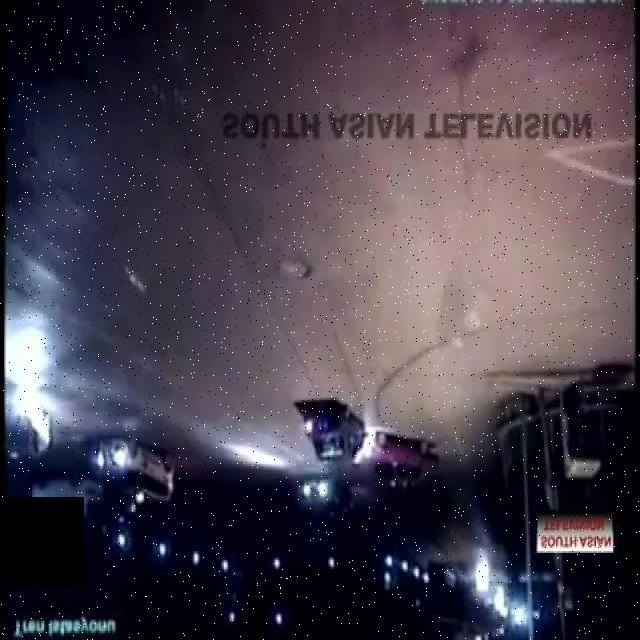moderate: (300, 402, 443, 491)
